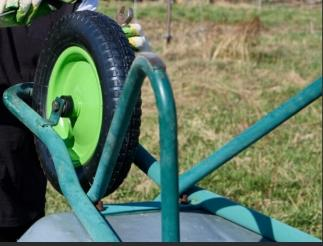BROUETTE: (1, 2, 323, 246)
